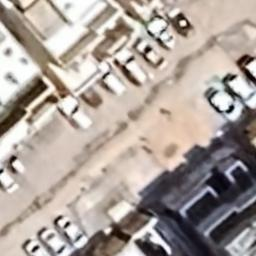SUV: (209, 88, 243, 122), (226, 74, 256, 110)
pickup: (111, 48, 157, 88)
sedan: (56, 216, 89, 248), (145, 18, 176, 50), (40, 227, 74, 256), (136, 38, 167, 68), (168, 7, 197, 39), (0, 166, 20, 194), (22, 239, 51, 256)
truck: (58, 99, 94, 132), (96, 64, 126, 96)
